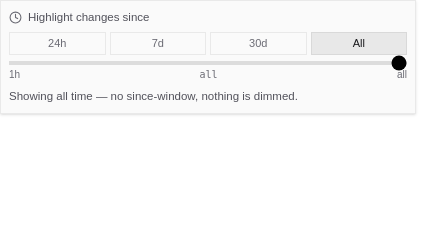
Test: <TimeScrubber> › says the server's truncation flags out loud
Click the button "30d".
click(258, 44)  # box [210,32,306,55]
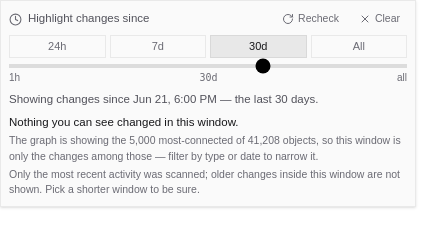
Expected: the text "most-connected of" is shown, [156,134,245,146]
Expected: the text "older changes inside this window are not shown" is shown, [9,168,400,195]
